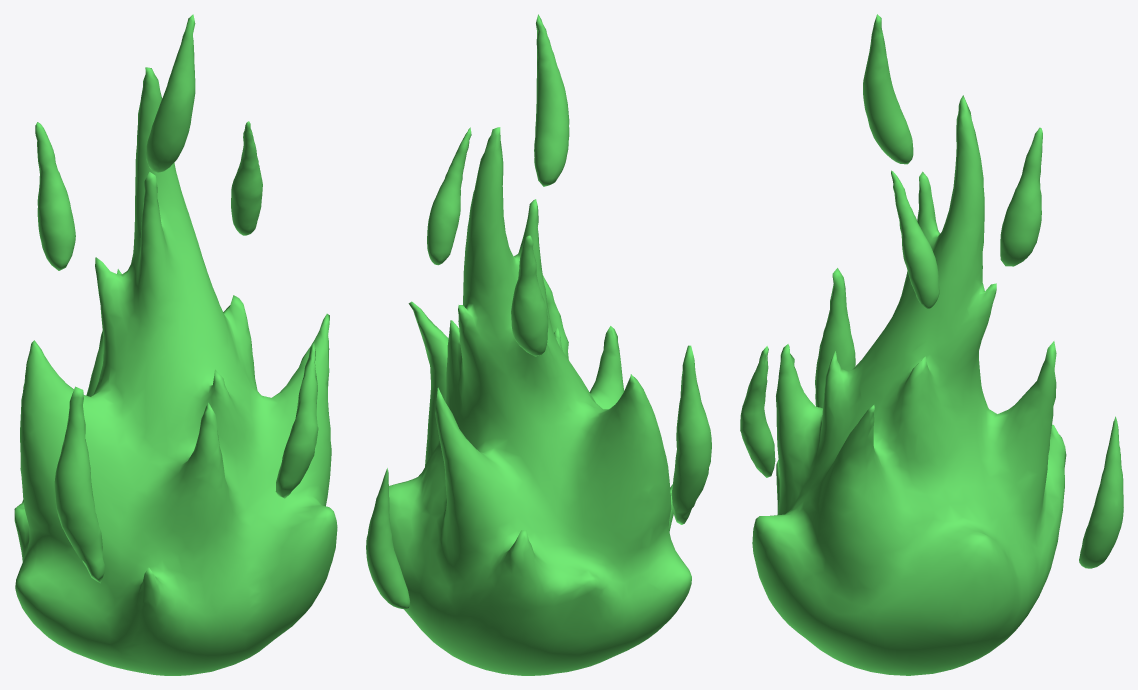
The model's file is greenfire.fbx.
3 renders of one model, left to right at view 1: azimuth 30°, elevation 25°; view 2: azimuth 150°, elevation 25°; view 3: azimuth 270°, elevation 25°, orthographic. The views are drawn at different scales.
Visible parts, largest first — view 1: fire big_8, Sphere.004_6, Sphere.003_5, Sphere.001_3, Sphere_2, Sphere.002_4; view 2: fire big_8, Sphere.004_6, Sphere.003_5, Sphere.005_7, Sphere.001_3, Sphere.002_4, Sphere_2; view 3: fire big_8, Sphere.003_5, Sphere.001_3, Sphere.005_7, Sphere.002_4, Sphere.004_6, Sphere_2.
Boxes of the visible parts, x1,y1,x2,y2 form: fire big_8: (14, 67, 337, 675); Sphere.004_6: (54, 386, 104, 583); Sphere.003_5: (146, 14, 195, 172); Sphere.001_3: (35, 122, 75, 270); Sphere_2: (275, 343, 318, 498); Sphere.002_4: (231, 121, 262, 235); fire big_8: (389, 127, 691, 675); Sphere.004_6: (671, 345, 711, 524); Sphere.003_5: (534, 14, 569, 186); Sphere.005_7: (366, 468, 409, 609); Sphere.001_3: (511, 235, 548, 356); Sphere.002_4: (427, 127, 471, 265); Sphere_2: (542, 275, 568, 359); fire big_8: (752, 95, 1066, 675); Sphere.003_5: (863, 14, 913, 164); Sphere.001_3: (1000, 127, 1042, 266); Sphere.005_7: (1079, 416, 1123, 568); Sphere.002_4: (891, 170, 939, 309); Sphere.004_6: (815, 268, 855, 408); Sphere_2: (740, 346, 775, 477).
Bounding box in the file's own units: 354 × 737 × 395.
